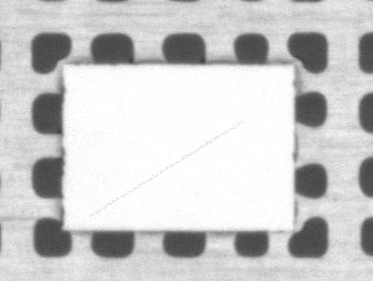DIE_CRACK: (119, 92, 321, 163)
